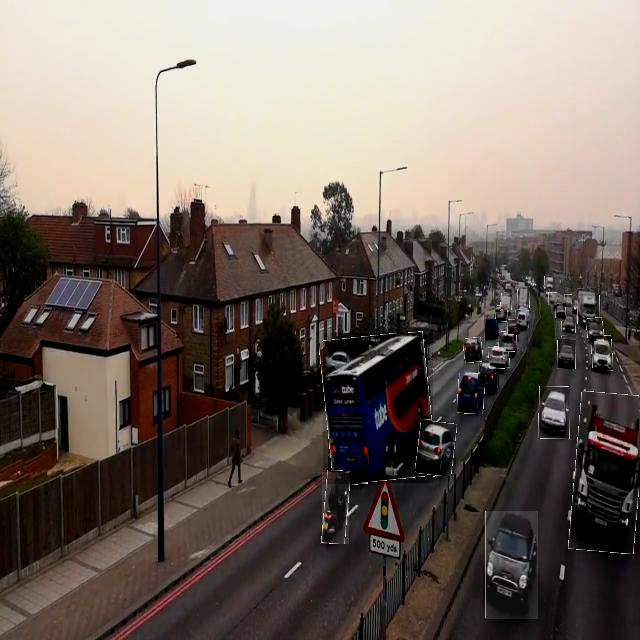Bus: (323, 334, 433, 484)
Car: (485, 512, 538, 620), (416, 421, 456, 476), (539, 387, 570, 439), (457, 374, 485, 414), (591, 336, 613, 371), (558, 339, 576, 369), (478, 364, 498, 389), (463, 338, 483, 362), (489, 347, 509, 369), (586, 318, 604, 341), (498, 332, 517, 352), (484, 314, 498, 340), (562, 316, 576, 338), (515, 310, 529, 328), (495, 305, 508, 322), (555, 303, 566, 321), (501, 294, 512, 312), (507, 319, 520, 334), (548, 292, 557, 305), (564, 294, 572, 307)
Motorcycle: (322, 472, 349, 544)
Truck: (571, 392, 640, 553), (577, 288, 600, 330), (517, 286, 530, 310), (544, 276, 555, 292)
